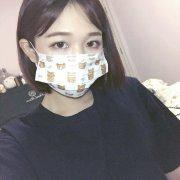OK: (35, 24, 110, 99)
